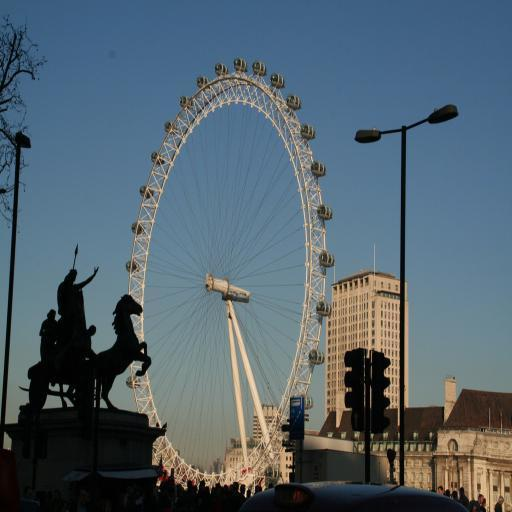horse: (77, 290, 154, 412)
